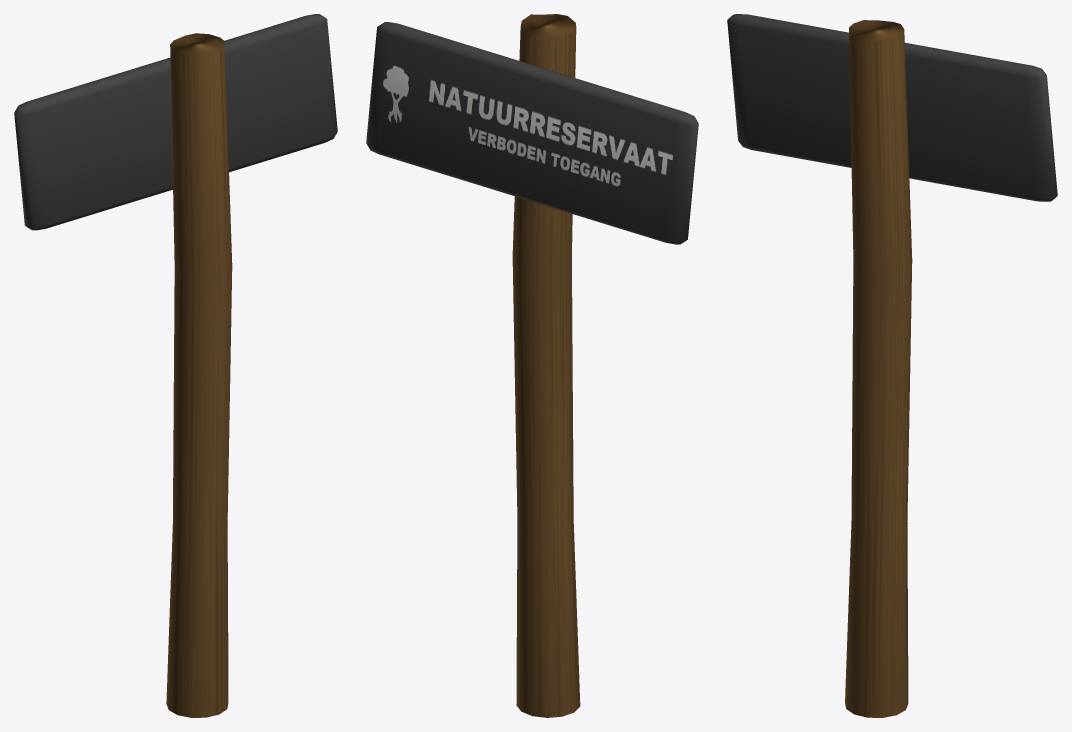
File: NoTrespassingSign.fbx
3 views of the same model, side by side, from view 1: azimuth 30°, elevation 25°; view 2: azimuth 150°, elevation 25°; view 3: azimuth 330°, elevation 25° (orthographic). The views are drawn at different scales.
Visible parts, largest first — view 1: Cylinder, Plane; view 2: Plane, Cylinder; view 3: Cylinder, Plane.
Part boxes in pixels (x1,y1,x2,y2): Cylinder: (166,33,232,717); Plane: (14,14,337,230); Plane: (366,22,698,244); Cylinder: (512,14,580,717); Cylinder: (845,20,912,717); Plane: (727,14,1057,201).
Bounding box in the file's own units: 496 × 978 × 103.
